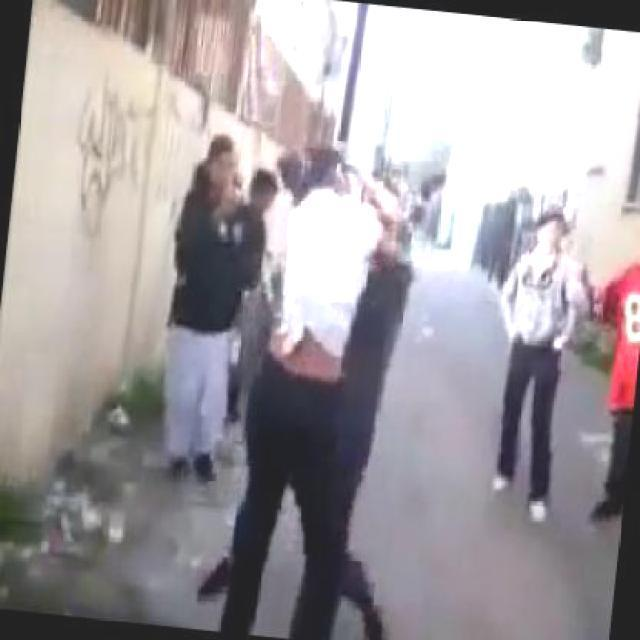fight: (250, 145, 422, 506)
non-fight: (160, 125, 272, 407), (485, 206, 590, 472)
